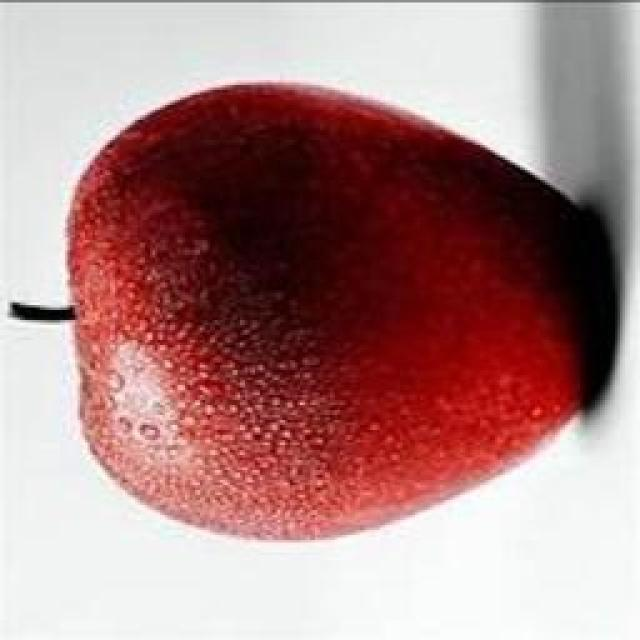Apple: (69, 84, 611, 538)
